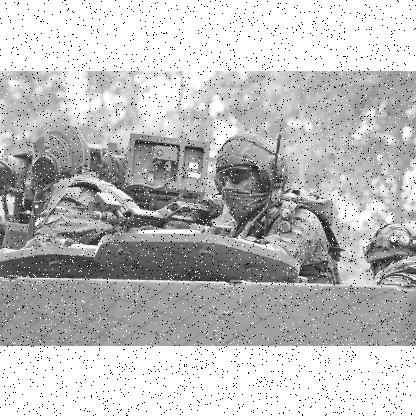gun: (83, 190, 234, 228)
